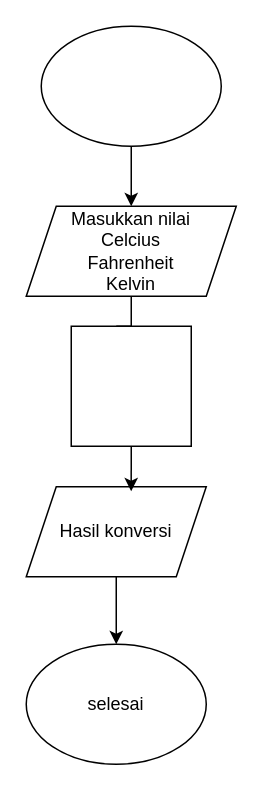
The diagram is 263 pixels wide and 791 high, and some of its shapes have lost their labels. The centre of each missing label's shape, as x and y in pixels:
konversi nilai Celcius Fahrenheit Kelvin: the point at 130,385
Mulai: the point at 130,85
